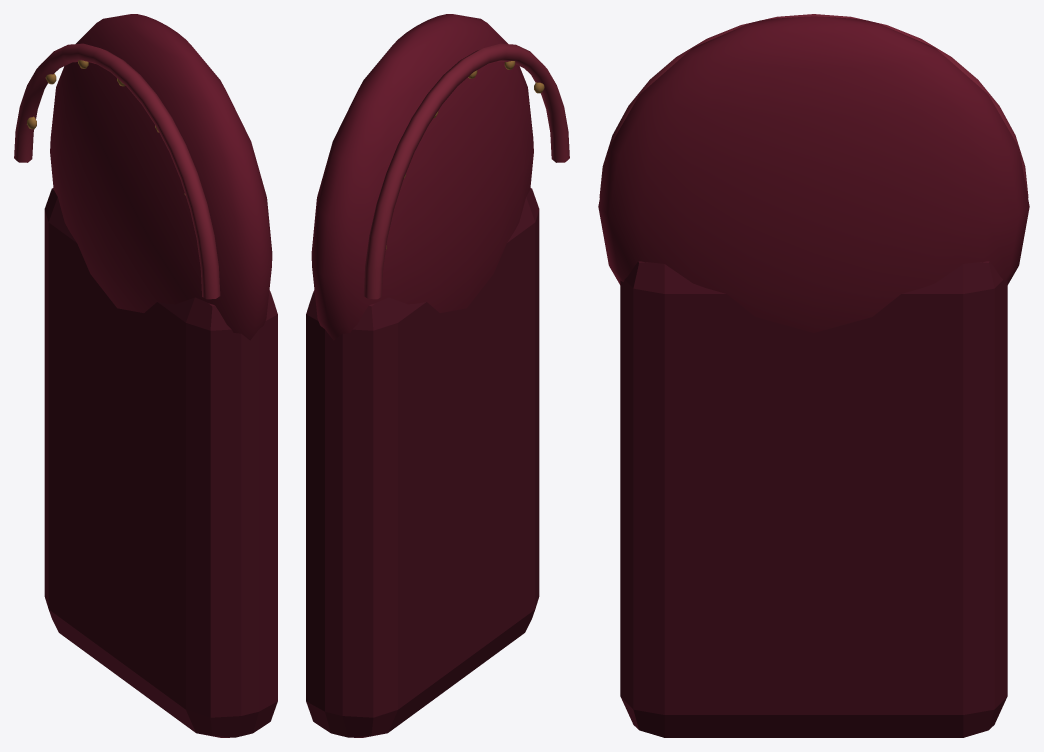
Rendered from SM_Menu_AudienceSeat_01.fbx.
3 views of the same model, side by side, from view 1: azimuth 30°, elevation 25°; view 2: azimuth 150°, elevation 25°; view 3: azimuth 270°, elevation 25° (orthographic). The views are drawn at different scales.
Visible parts, largest first — view 1: Audience chair back.006_Baked; view 2: Audience chair back.006_Baked; view 3: Audience chair back.006_Baked.
Boxes of the visible parts, bbox=[...] form: Audience chair back.006_Baked: bbox=[14, 14, 277, 737]; Audience chair back.006_Baked: bbox=[306, 14, 569, 737]; Audience chair back.006_Baked: bbox=[598, 14, 1029, 737].
Bounding box in the file's own units: 24 × 78 × 143.
